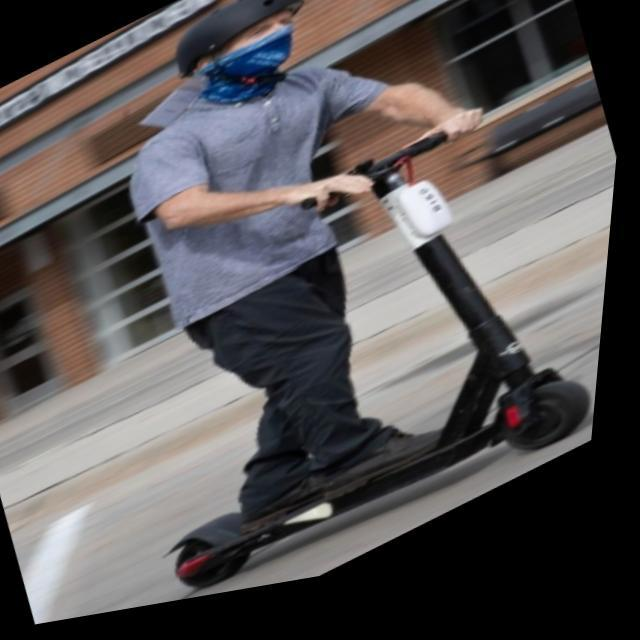Helmet: (169, 0, 314, 96)
